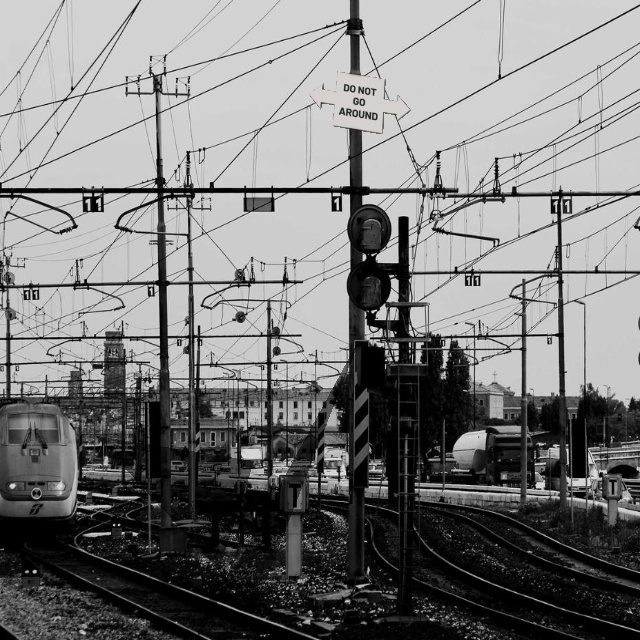DO_NOT_GO_AROUND: (308, 71, 411, 134)
